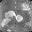people: (1, 18, 12, 28), (5, 10, 16, 18), (15, 15, 23, 22)
